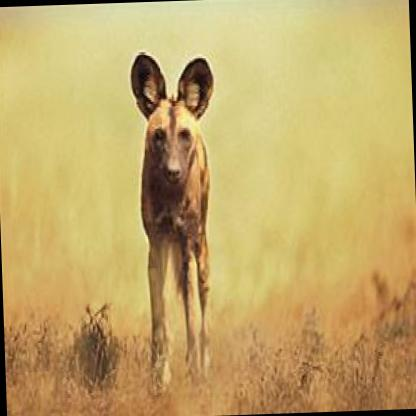African_hunting_dog: (124, 46, 224, 398)
